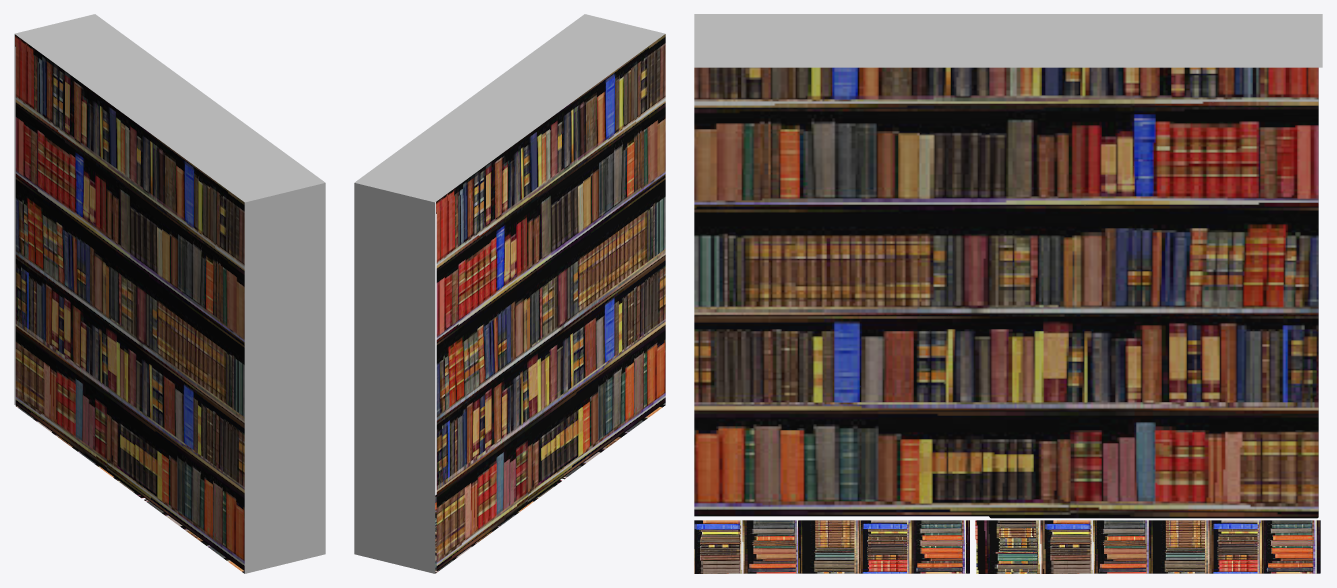
Rendered from BLOCKYGON_BOOK SHELF.fbx.
3 renders of one model, left to right at view 1: azimuth 30°, elevation 25°; view 2: azimuth 150°, elevation 25°; view 3: azimuth 270°, elevation 25°, orthographic. The views are drawn at different scales.
Visible parts, largest first — view 1: BLOCKYGON_BOOK_SHELF; view 2: BLOCKYGON_BOOK_SHELF; view 3: BLOCKYGON_BOOK_SHELF.
Boxes of the visible parts, bbox=[...] form: BLOCKYGON_BOOK_SHELF: bbox=[14, 14, 325, 573]; BLOCKYGON_BOOK_SHELF: bbox=[354, 14, 665, 573]; BLOCKYGON_BOOK_SHELF: bbox=[694, 14, 1322, 573].
Bounding box in the file's own units: 36.33 × 159 × 179.
